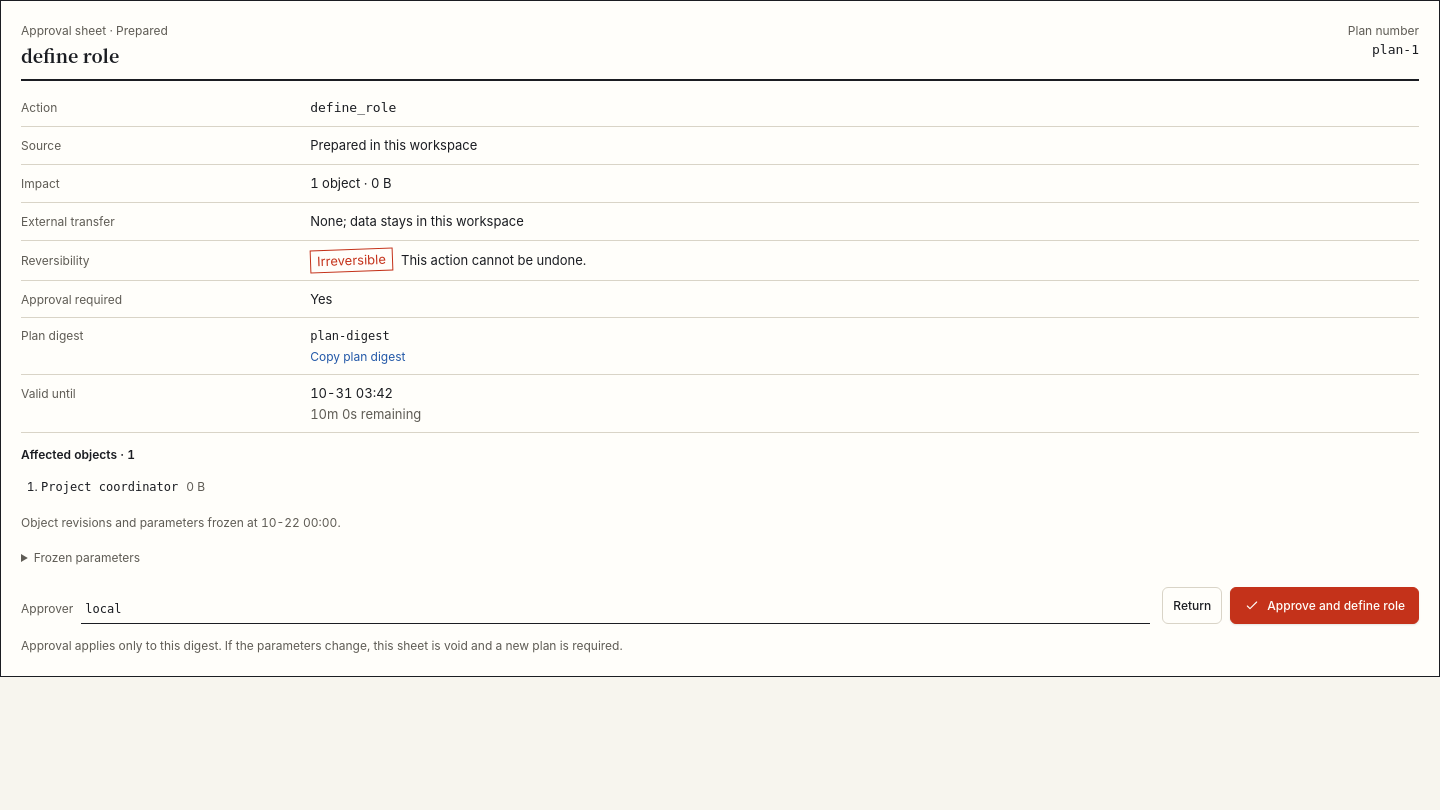
Test: shows frozen role grants, denied actions, impact and required approval in en
Check: the text "Project coordinator" is shown, box [41,480,178,494]
Click the heading "Frozen parameters": (87, 558) [34,550,140,565]
(page scrolled)
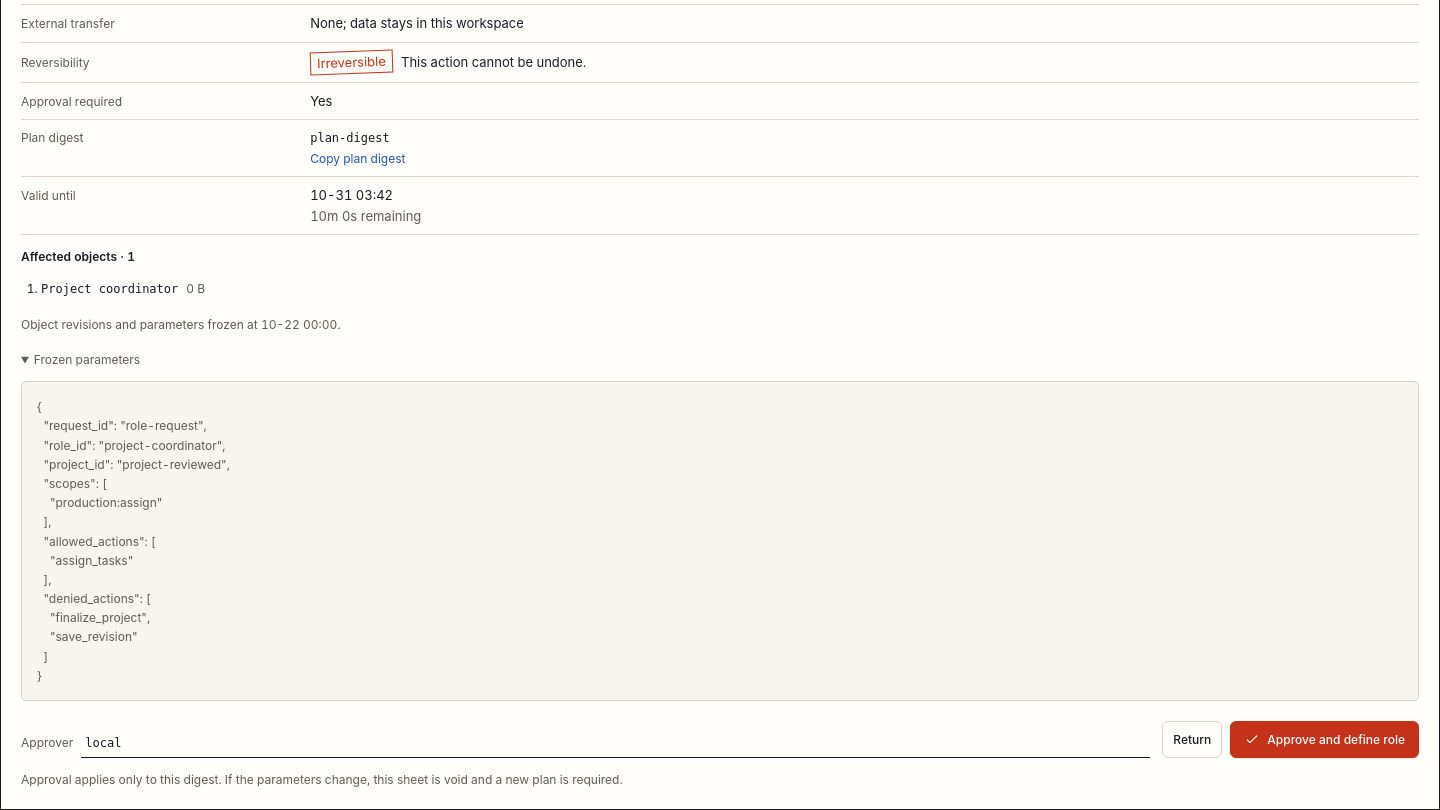
Check: the text "\"allowed_actions\"" shows "\"assign_tasks\"", box [37,399,230,683]
Check: the text "\"allowed_actions\"" shows "\"denied_actions\"", box [37,399,230,683]
Check: the text "\"allowed_actions\"" shows "\"finalize_project\"", box [37,399,230,683]
